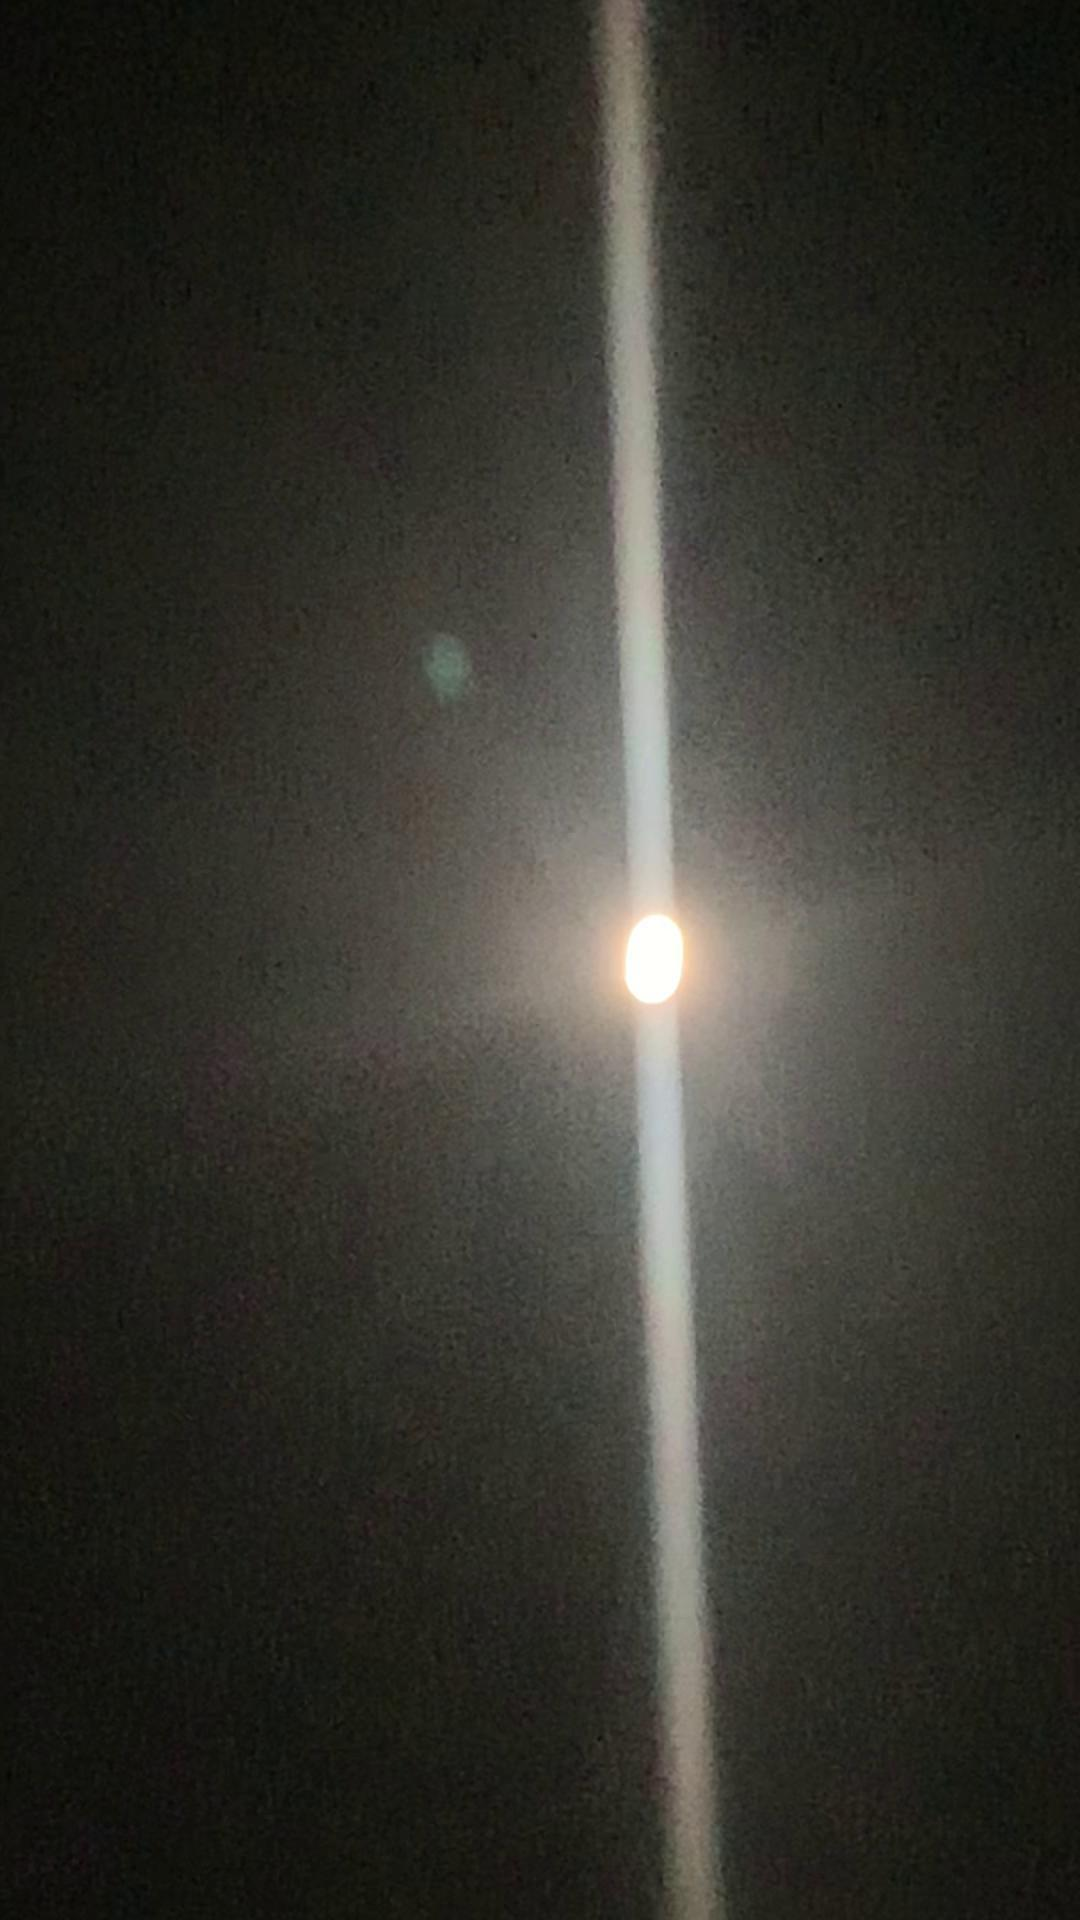moon: (607, 909, 712, 1014)
